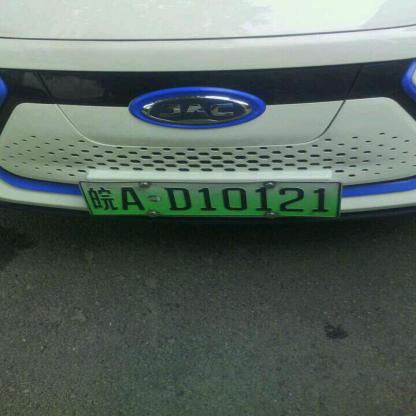lp: (80, 181, 339, 216)
